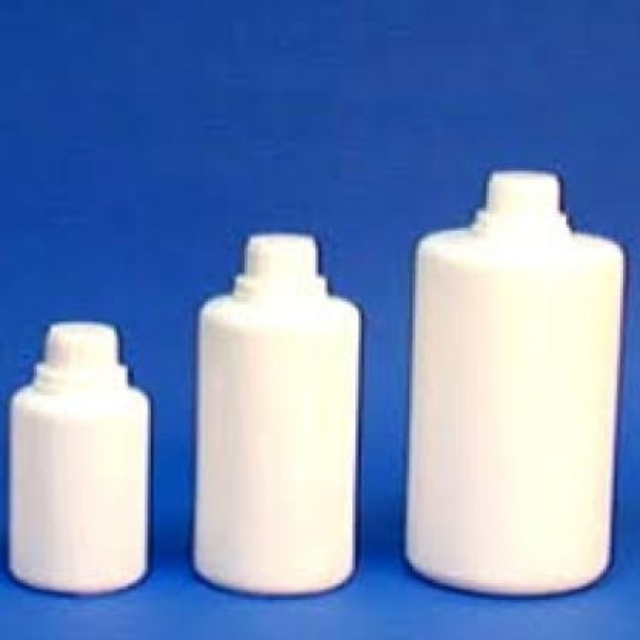trash: (406, 171, 623, 594), (194, 234, 358, 594), (9, 322, 148, 592)
